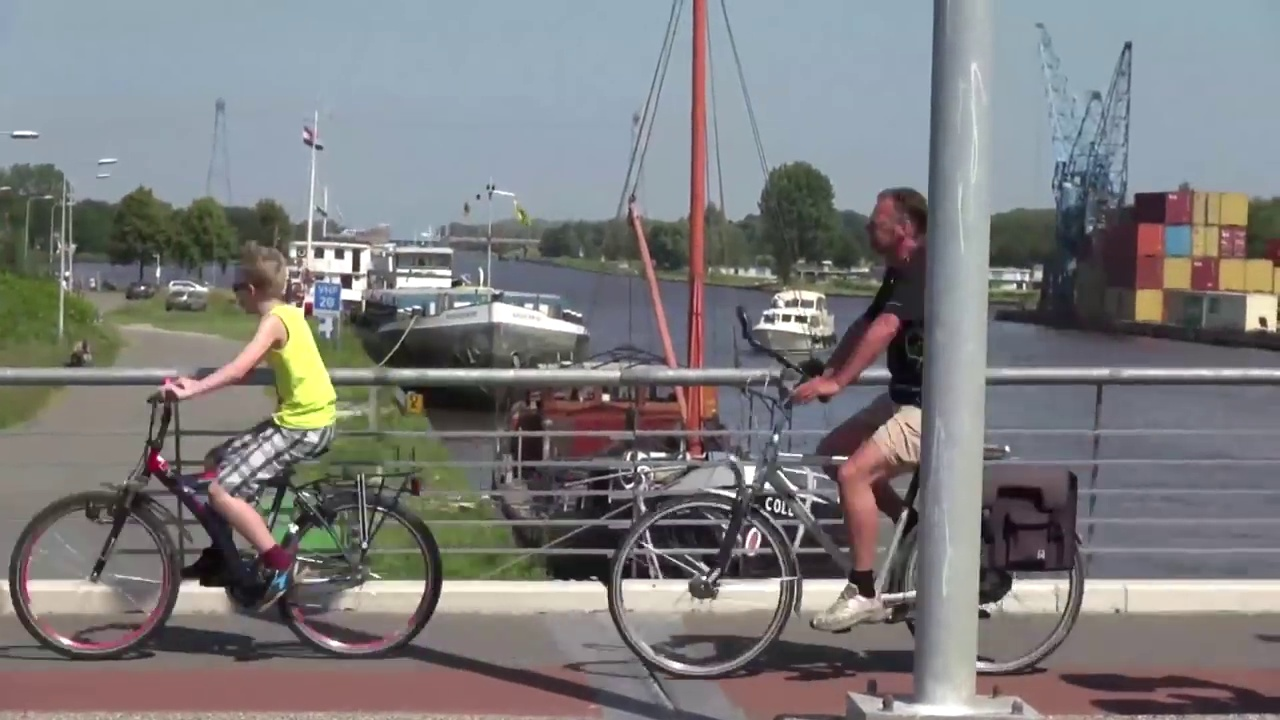cyclist_side: (601, 172, 1109, 685), (3, 243, 453, 664)
